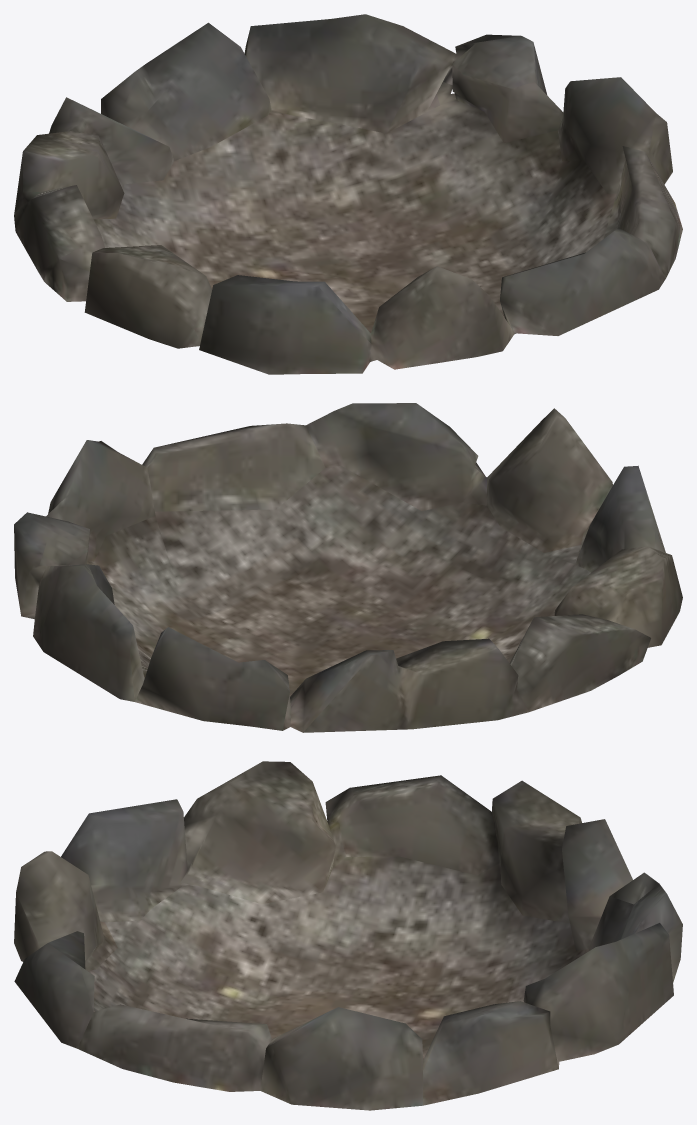
File: stone_fire_pit_lod1.glb
3 views of the same model, one above another, from view 1: azimuth 30°, elevation 25°; view 2: azimuth 150°, elevation 25°; view 3: azimuth 270°, elevation 25° (orthographic).
Parts seen in each view (by area): view 1: stone_fire_pit; view 2: stone_fire_pit; view 3: stone_fire_pit.
Part boxes in pixels (x1,y1,x2,y2): stone_fire_pit: (14, 14, 682, 374); stone_fire_pit: (14, 403, 682, 732); stone_fire_pit: (14, 761, 682, 1110).
Size of the model in its own units: 1.44 by 0.376 by 1.43.
1 material, 1 textured.
